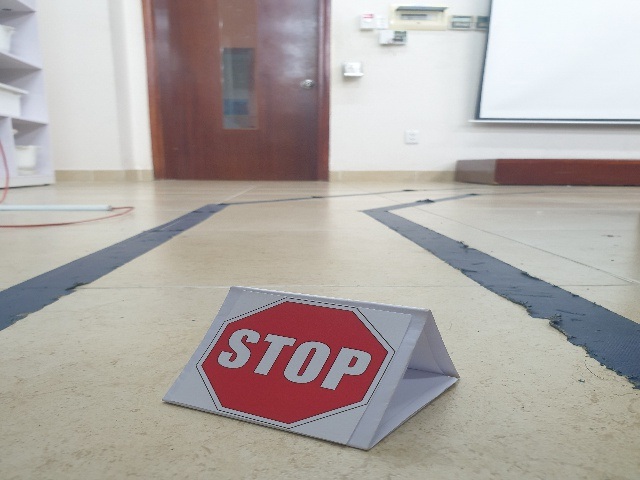Stop: (195, 300, 394, 429)
